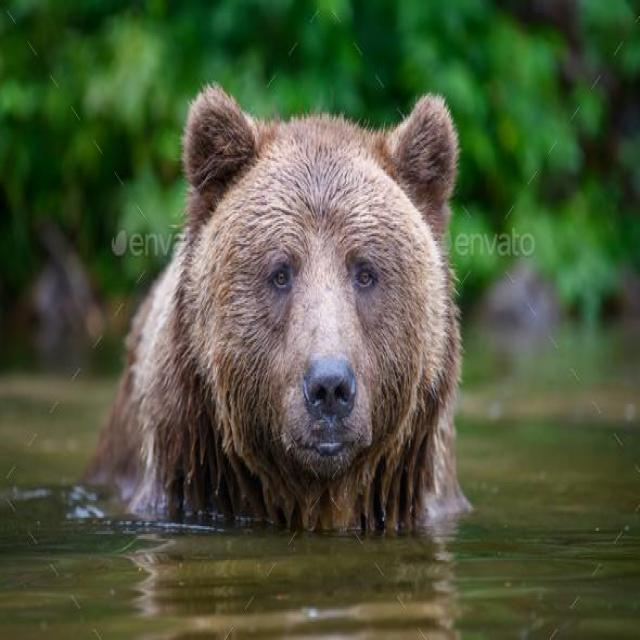Bear: (74, 85, 474, 539)
